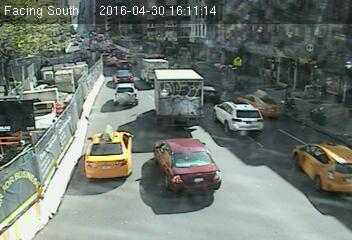neg: (282, 30, 304, 60), (207, 21, 227, 47), (310, 105, 329, 130), (241, 72, 260, 97), (111, 49, 130, 74)
